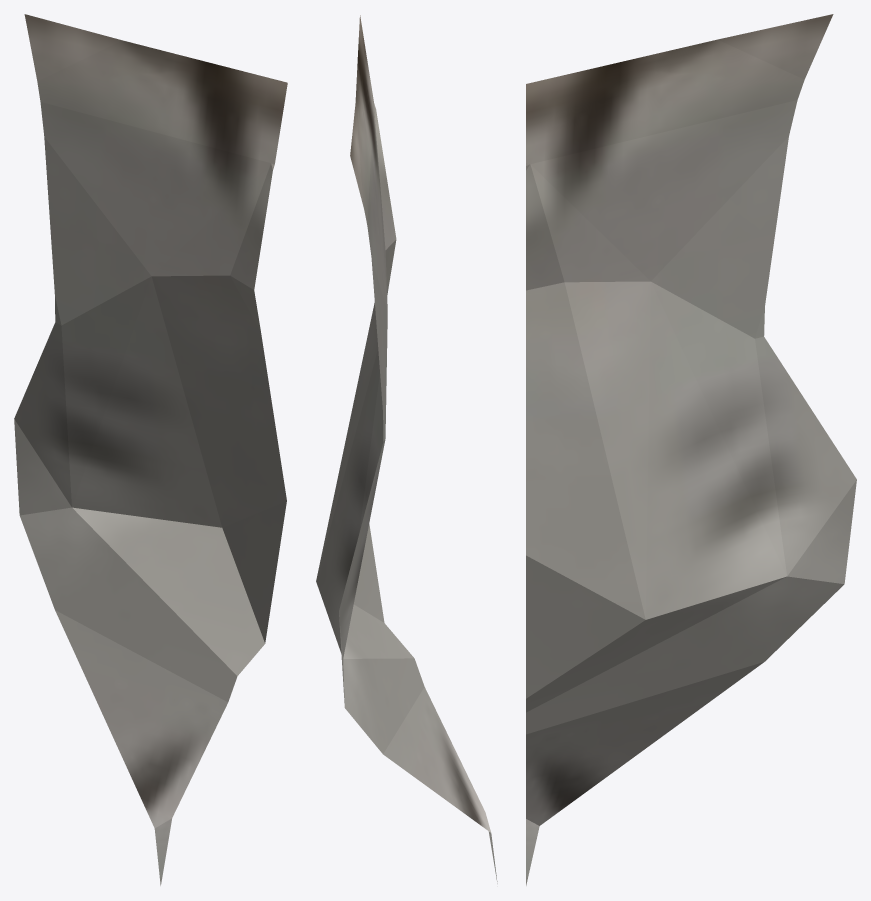
3 views of the same model, side by side, from view 1: azimuth 30°, elevation 25°; view 2: azimuth 150°, elevation 25°; view 3: azimuth 270°, elevation 25° (orthographic). The views are drawn at different scales.
Bounding box in the file's own units: 0.0634 × 0.3686 × 0.1267.
Materials: 1 (1 with a texture image).
